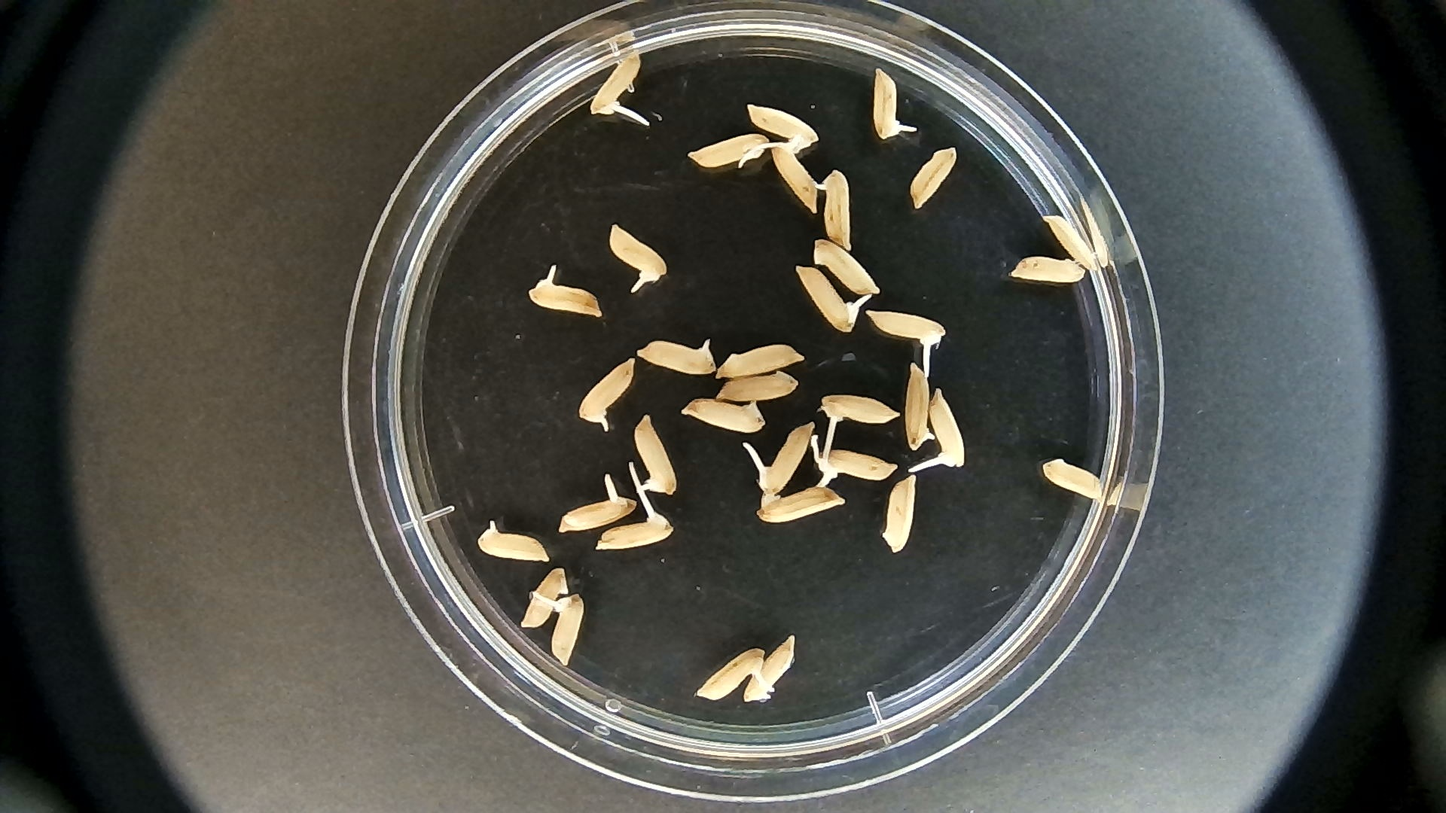no: (749, 486, 850, 526), (813, 239, 882, 294), (745, 634, 797, 703), (773, 145, 823, 216), (682, 394, 765, 434), (519, 568, 569, 632), (880, 474, 921, 550), (1041, 459, 1106, 506), (911, 146, 956, 212), (1044, 217, 1098, 269), (690, 135, 771, 169), (903, 361, 934, 449), (721, 346, 805, 378), (716, 370, 800, 401), (1009, 257, 1085, 287)
yes: (793, 265, 871, 332), (557, 477, 638, 534), (608, 222, 667, 291), (529, 266, 602, 319), (761, 418, 814, 491), (631, 413, 678, 495), (578, 356, 636, 422), (695, 647, 765, 700), (476, 518, 551, 565), (591, 48, 642, 117), (743, 102, 817, 149), (816, 172, 859, 251), (927, 387, 967, 469), (637, 336, 718, 374), (865, 310, 945, 348), (819, 394, 900, 431), (814, 448, 897, 484), (597, 512, 669, 553), (548, 592, 584, 665), (873, 69, 904, 140)
